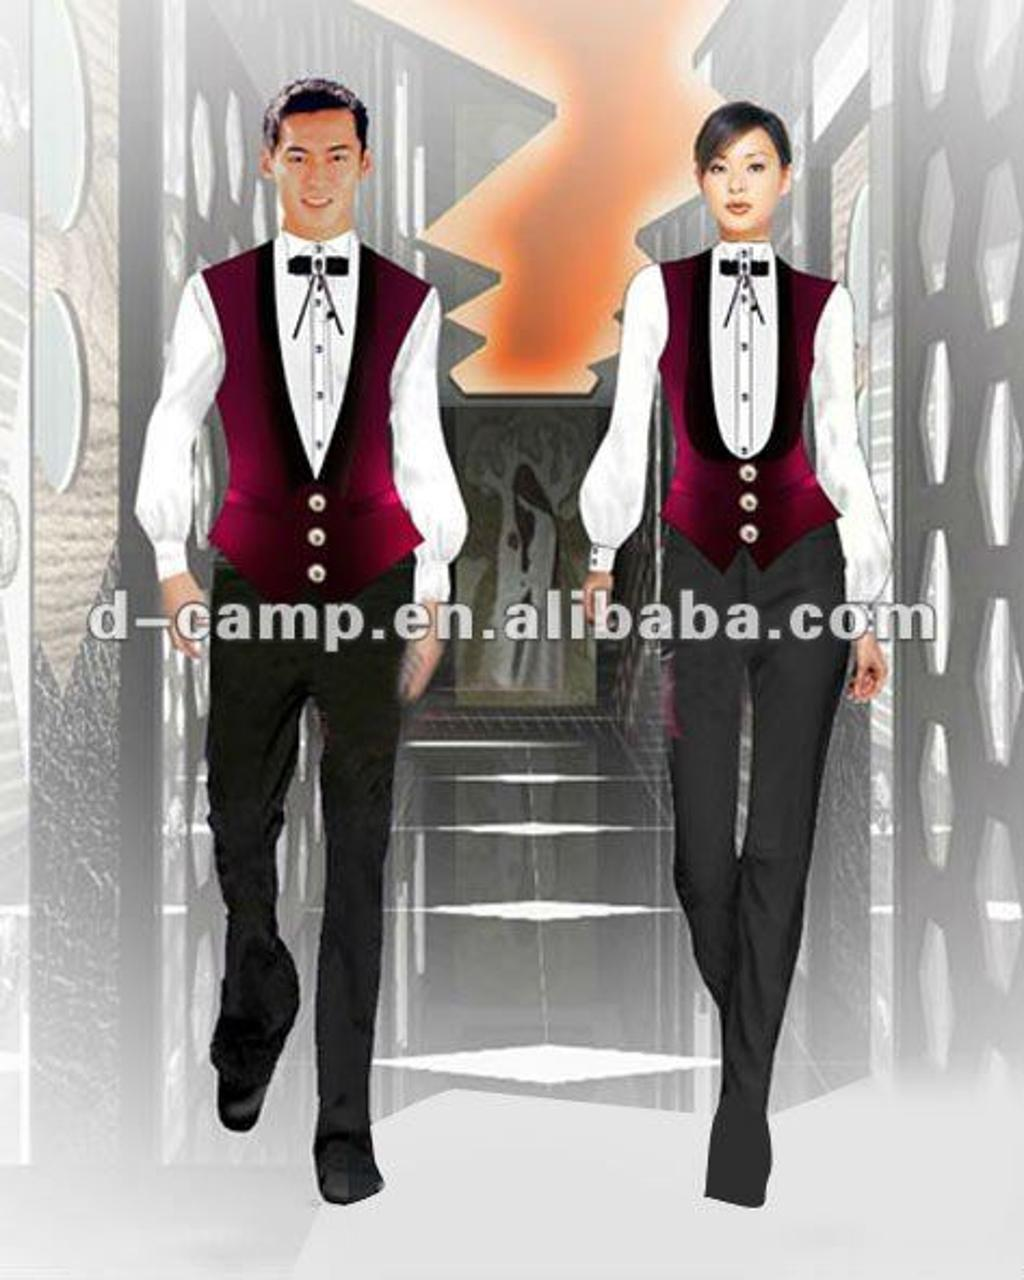face: (280, 105, 352, 235), (704, 127, 786, 224)
